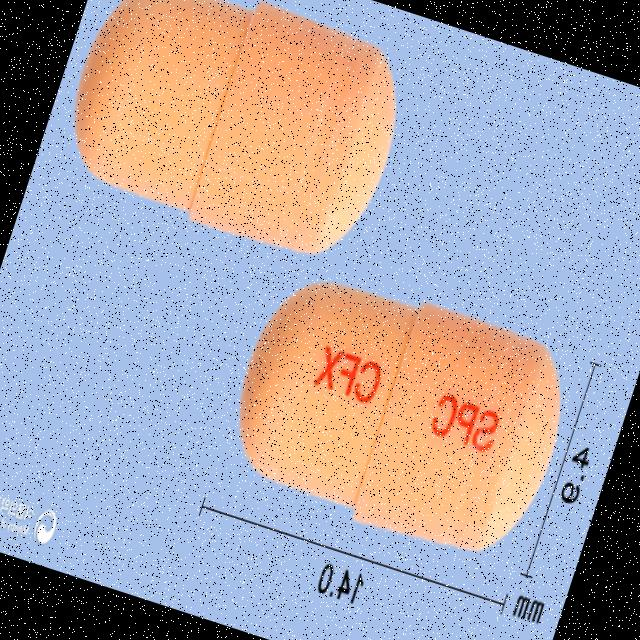Seoul Cefixime Cap: (212, 256, 584, 574), (48, 0, 422, 276)
